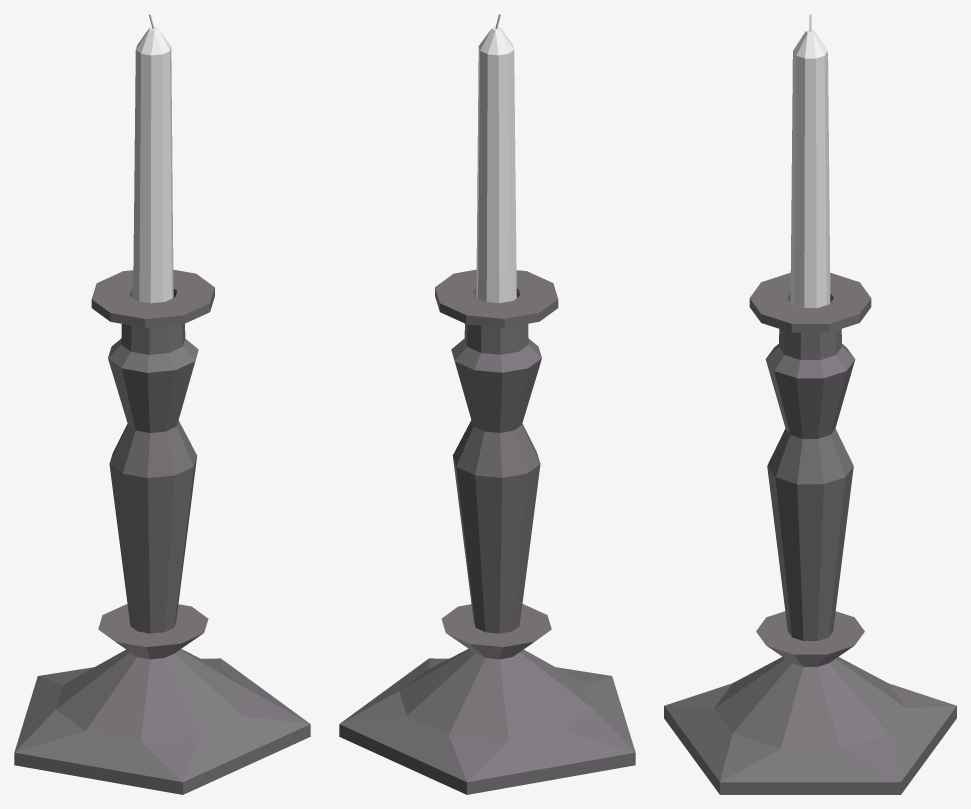
File: candlestick04.obj
3 views of the same model, side by side, from view 1: azimuth 30°, elevation 25°; view 2: azimuth 150°, elevation 25°; view 3: azimuth 270°, elevation 25° (orthographic).
Parts seen in each view (by area): view 1: Cylinder; view 2: Cylinder; view 3: Cylinder.
Part boxes in pixels (x1=…): Cylinder: x1=14, y1=14, x2=310, y2=794; Cylinder: x1=339, y1=14, x2=635, y2=794; Cylinder: x1=664, y1=14, x2=956, y2=794.
Bounding box in the file's own units: 0.1167 × 0.3183 × 0.1167.
